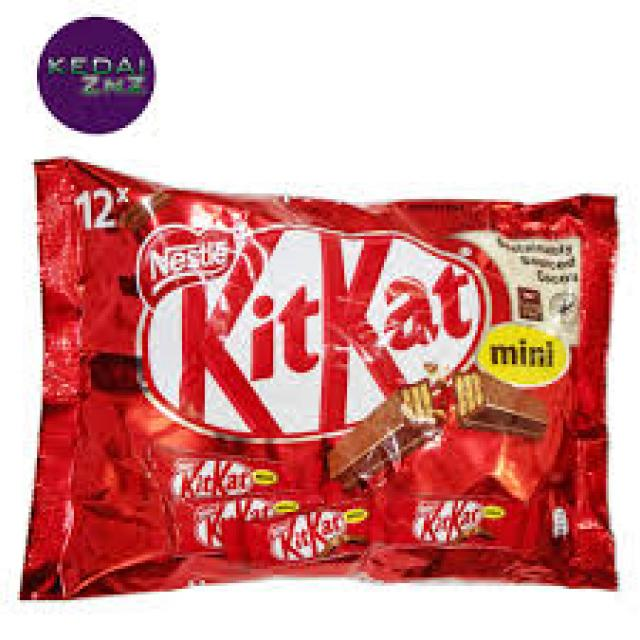kitkat: (30, 160, 620, 600), (369, 481, 561, 563), (225, 497, 393, 564), (148, 450, 308, 510)
